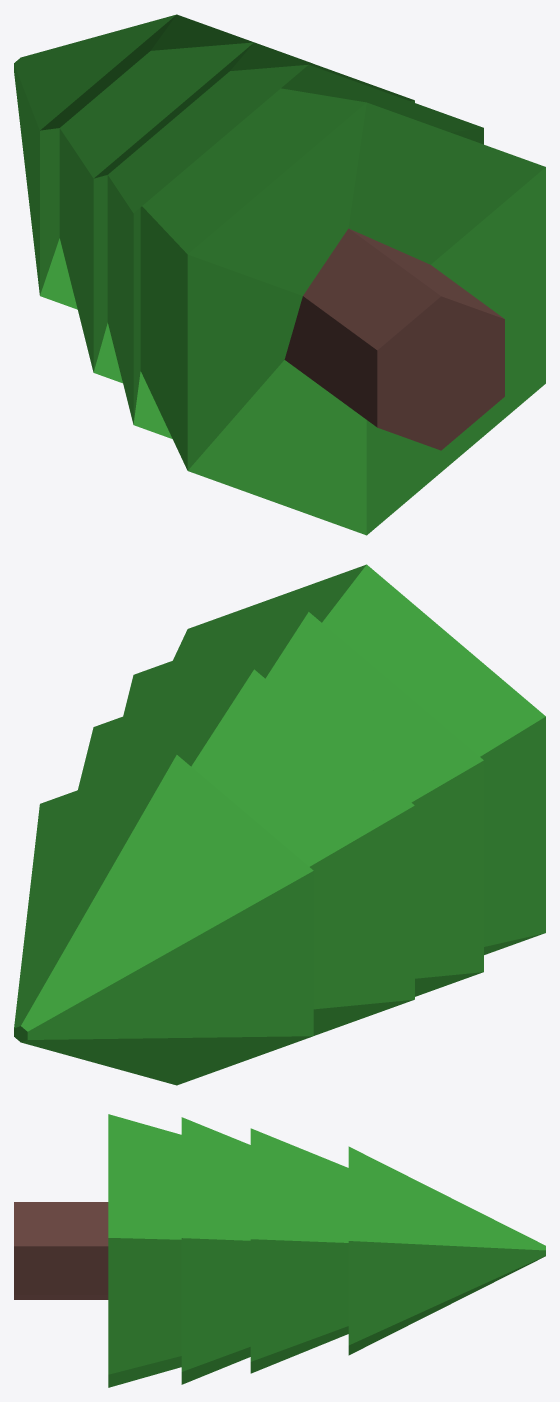
Rendered from Tree1.fbx.
3 views of the same model, one above another, from view 1: azimuth 30°, elevation 25°; view 2: azimuth 150°, elevation 25°; view 3: azimuth 270°, elevation 25° (orthographic). The views are drawn at different scales.
Parts seen in each view (by area): view 1: Tree; view 2: Tree; view 3: Tree.
Boxes of the visible parts, x1=… form: Tree: x1=14, y1=14, x2=545, y2=535; Tree: x1=14, y1=564, x2=545, y2=1085; Tree: x1=14, y1=1114, x2=545, y2=1387.
Size of the model in its own units: 311 by 359 by 632.
